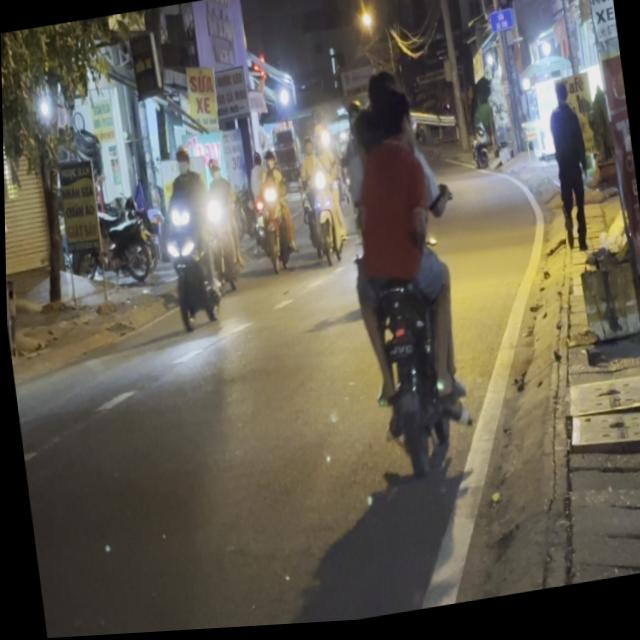licenseplate: (321, 58, 478, 488)
motorcyclist: (359, 69, 412, 156)
